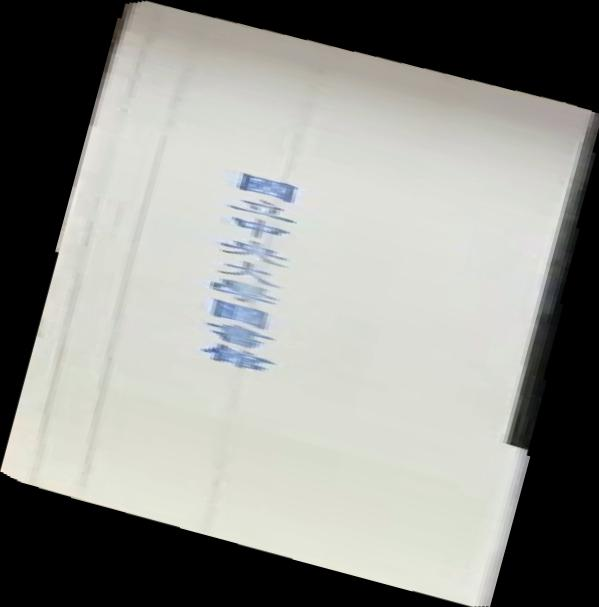backward: (1, 1, 599, 607)
